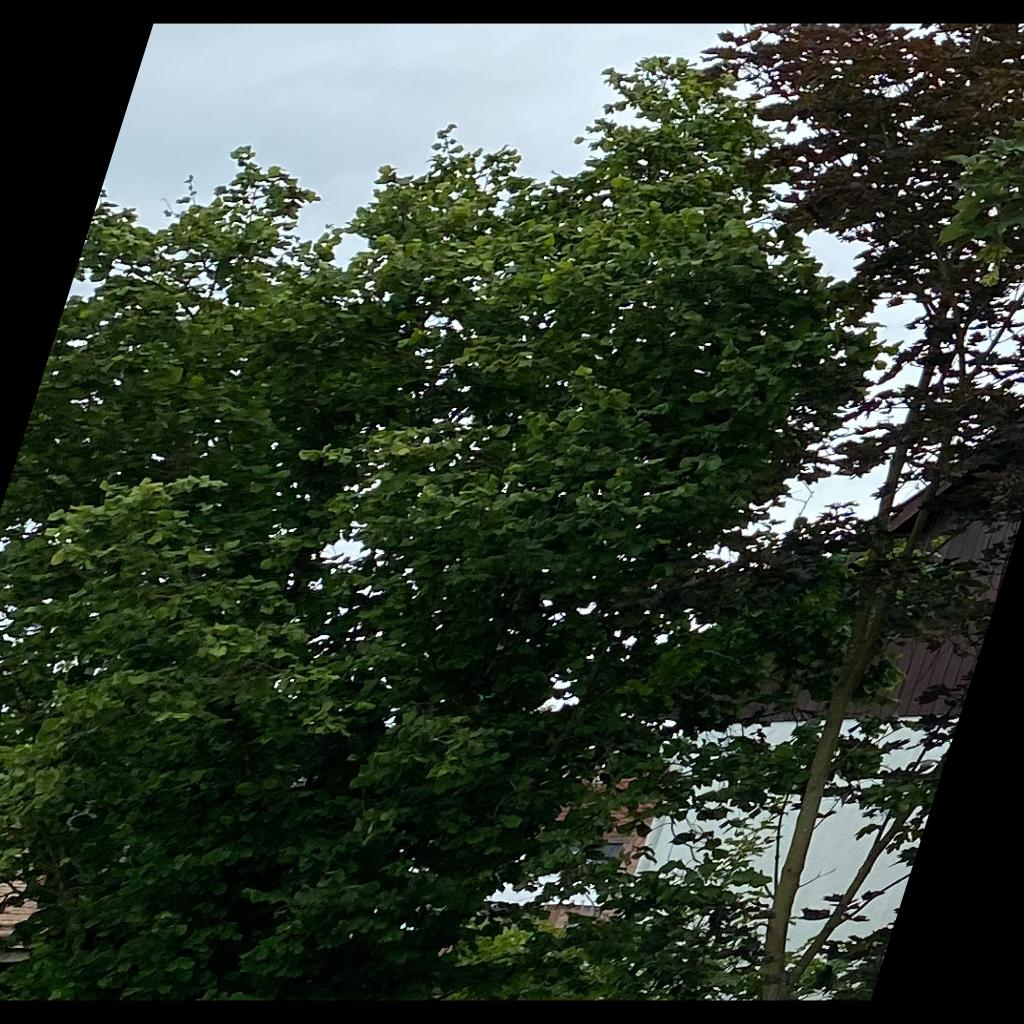tree: (1, 57, 885, 1001), (700, 21, 1023, 1000)
